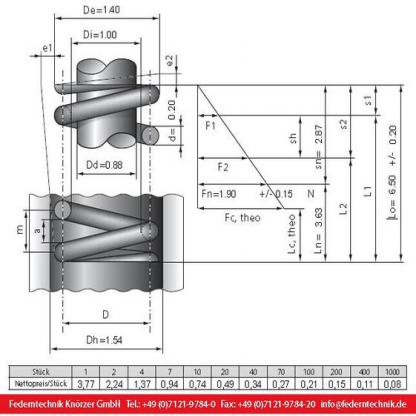FOD: (49, 198, 161, 262)
